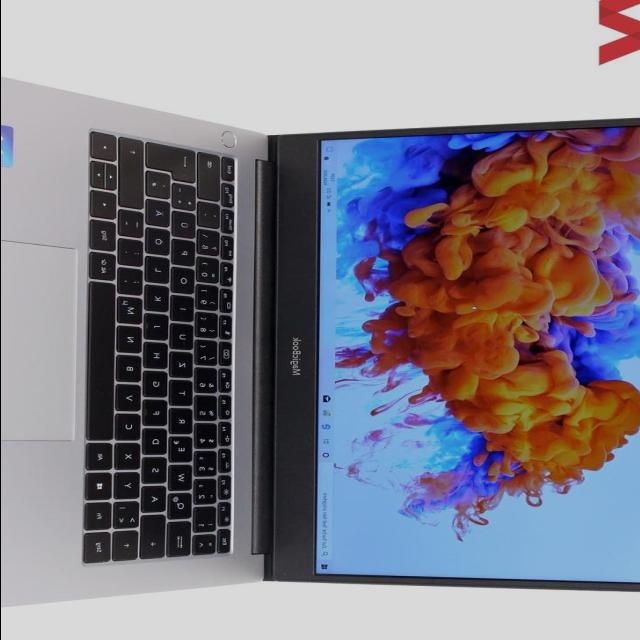0: (199, 259, 221, 286)
1: (195, 508, 218, 534)
2: (195, 480, 218, 506)
3: (196, 453, 219, 479)
4: (196, 424, 219, 450)
5: (196, 396, 218, 422)
6: (196, 369, 219, 395)
7: (197, 341, 219, 367)
8: (197, 313, 220, 339)
9: (198, 286, 221, 313)
a: (143, 487, 169, 515)
accent: (200, 204, 223, 230)
ae: (147, 200, 173, 229)
alt-left: (86, 444, 114, 474)
altgr-right: (91, 254, 119, 283)
b: (118, 356, 144, 384)
c: (117, 415, 143, 443)
caret: (195, 537, 217, 558)
comma: (120, 269, 146, 297)
d: (144, 429, 170, 457)
del: (200, 156, 223, 203)
e: (171, 437, 195, 465)
enter: (148, 143, 199, 185)
f: (144, 400, 170, 428)
g: (144, 372, 170, 400)
h: (145, 344, 171, 371)
hash: (148, 172, 174, 202)
i: (172, 297, 196, 325)
j: (145, 315, 171, 342)
k: (146, 286, 172, 314)
keyboard: (78, 126, 244, 570)
l: (147, 258, 173, 286)
less: (116, 502, 142, 531)
m: (119, 298, 145, 327)
minus: (120, 211, 146, 241)
n: (118, 327, 144, 356)
o: (173, 269, 197, 296)
oe: (147, 229, 173, 257)
p: (174, 241, 198, 268)
plus: (173, 185, 199, 213)
point: (120, 240, 146, 269)
q: (170, 494, 194, 521)
r: (171, 410, 195, 437)
s: (143, 459, 169, 487)
shift-left: (114, 532, 140, 564)
shift-lock: (142, 517, 168, 561)
shift-right: (121, 140, 147, 212)
space: (89, 282, 117, 444)
ss: (200, 231, 222, 258)
strg-left: (86, 533, 114, 566)
strg-right: (91, 220, 119, 254)
t: (172, 381, 196, 408)
tab: (169, 523, 193, 559)
u: (171, 325, 197, 352)
ue: (173, 213, 199, 241)
v: (117, 386, 143, 414)
w: (171, 466, 195, 493)
x: (115, 444, 143, 472)
y: (115, 474, 143, 502)
z: (172, 352, 196, 380)
